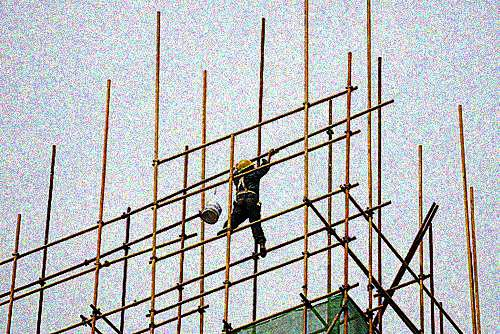helmet: (236, 159, 257, 175)
